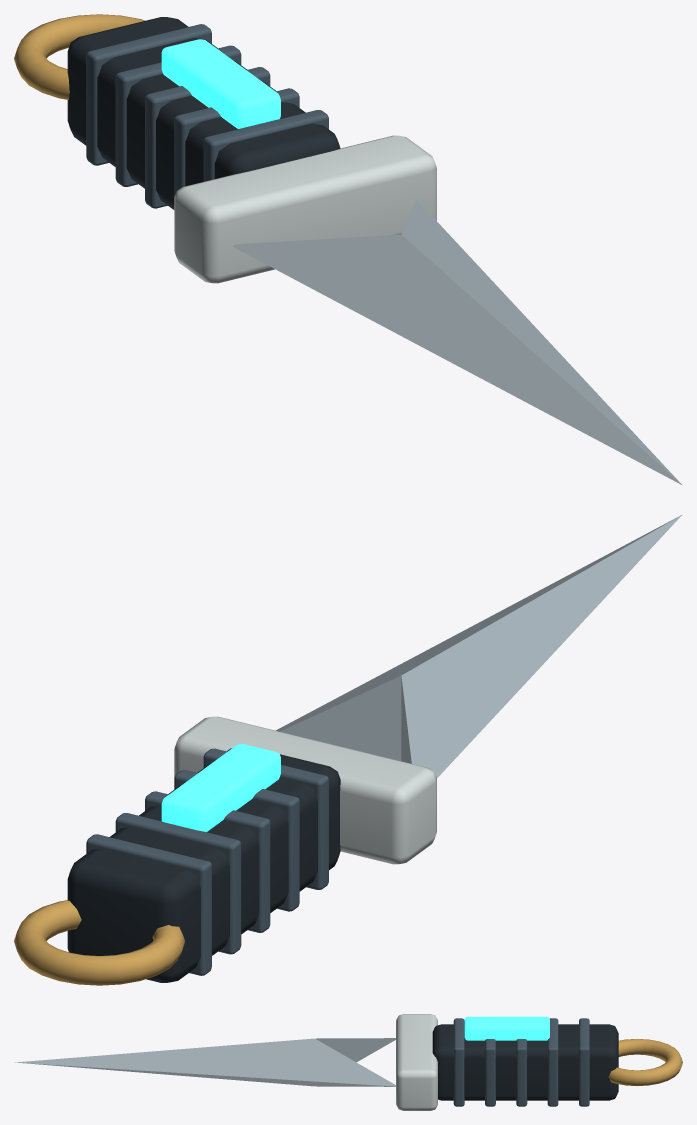
Rendered from combat-knife-v05.glb.
3 views of the same model, one above another, from view 1: azimuth 30°, elevation 25°; view 2: azimuth 150°, elevation 25°; view 3: azimuth 270°, elevation 25° (orthographic). The views are drawn at different scales.
Parts seen in each view (by area): view 1: Forged spear blade, Guard, Rubber grip, Silence capacitor, Recovery loop, Grip ridge.004, Grip ridge.003, Grip ridge, Grip ridge.002, Grip ridge.001; view 2: Forged spear blade, Rubber grip, Guard, Recovery loop, Silence capacitor, Grip ridge.003, Grip ridge.004, Grip ridge.002, Grip ridge.001, Grip ridge; view 3: Forged spear blade, Rubber grip, Guard, Recovery loop, Silence capacitor, Grip ridge, Grip ridge.004, Grip ridge.003, Grip ridge.002, Grip ridge.001.
Boxes of the visible parts, box(x1,y1,x2,y2) form: Forged spear blade: box(233, 200, 682, 485); Guard: box(174, 135, 436, 283); Rubber grip: box(67, 17, 340, 209); Silence capacitor: box(161, 39, 280, 128); Recovery loop: box(14, 14, 144, 99); Grip ridge.004: box(86, 24, 211, 165); Grip ridge.003: box(115, 45, 241, 186); Grip ridge: box(203, 110, 328, 181); Grip ridge.002: box(145, 67, 270, 208); Grip ridge.001: box(174, 88, 299, 196); Forged spear blade: box(276, 514, 682, 777); Rubber grip: box(67, 748, 340, 982); Guard: box(174, 716, 436, 864); Recovery loop: box(14, 900, 184, 985); Silence capacitor: box(161, 744, 280, 832); Grip ridge.003: box(115, 813, 241, 954); Grip ridge.004: box(86, 834, 211, 975); Grip ridge.002: box(145, 791, 270, 932); Grip ridge.001: box(174, 770, 299, 911); Grip ridge: box(203, 748, 328, 889); Forged spear blade: box(14, 1038, 395, 1086); Rubber grip: box(432, 1024, 618, 1100); Guard: box(396, 1014, 437, 1110); Recovery loop: box(608, 1039, 682, 1085); Silence capacitor: box(464, 1016, 549, 1040); Grip ridge: box(453, 1018, 464, 1106); Grip ridge.004: box(579, 1018, 589, 1106); Grip ridge.003: box(547, 1018, 558, 1106); Grip ridge.002: box(516, 1039, 527, 1106); Grip ridge.001: box(485, 1039, 495, 1106).
Size of the model in its own units: 0.12 by 0.065 by 0.556.
